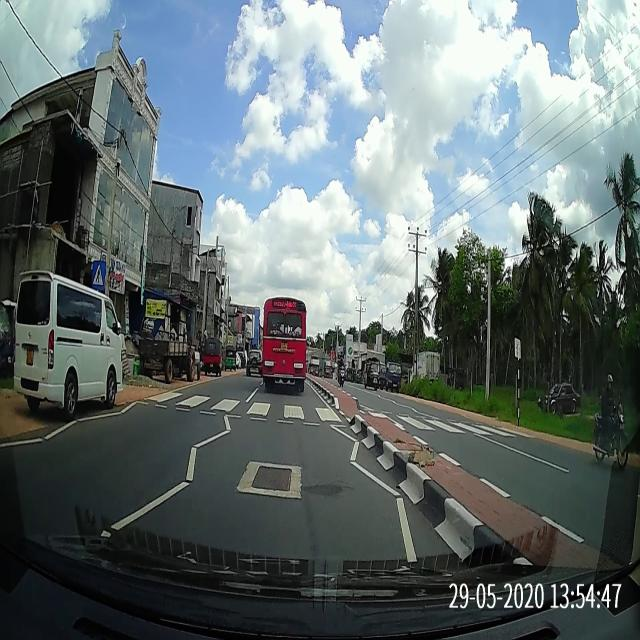Crosswalk: (141, 389, 538, 439)
